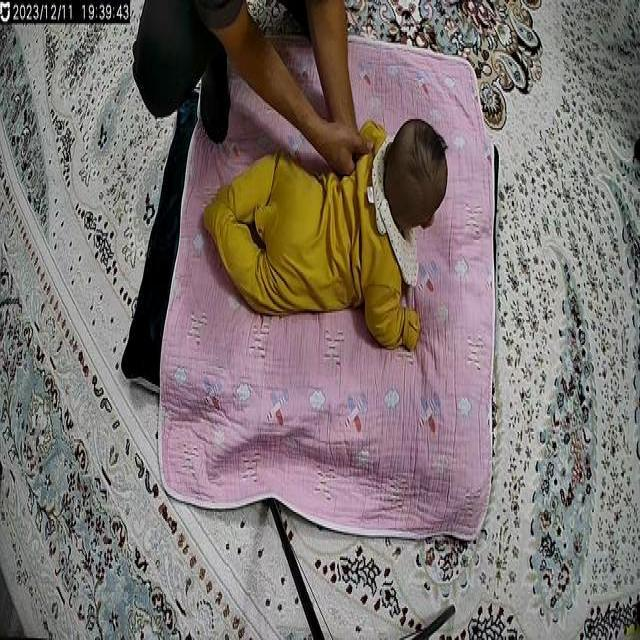baby: (198, 98, 453, 364)
